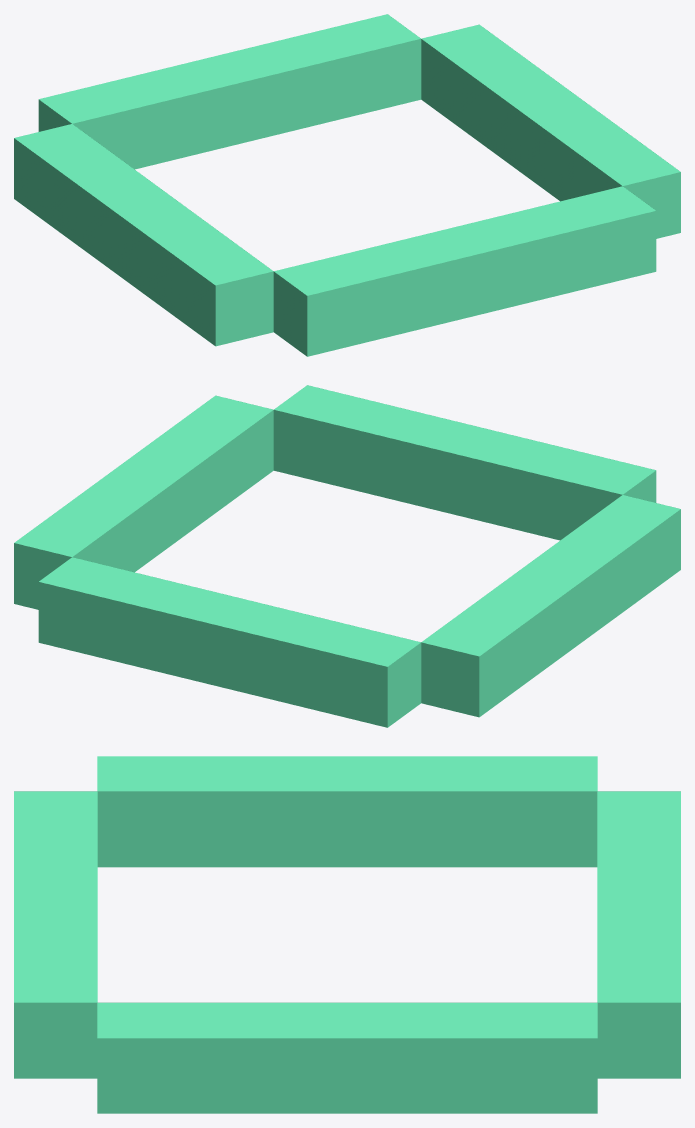
Rendered from Terra Lord Ring.obj.
3 renders of one model, top to bottom at view 1: azimuth 30°, elevation 25°; view 2: azimuth 150°, elevation 25°; view 3: azimuth 270°, elevation 25°, orthographic. The views are drawn at different scales.
Visible parts, largest first — view 1: Terra Lord Ring; view 2: Terra Lord Ring; view 3: Terra Lord Ring.
Part boxes in pixels (box(x1,y1,x2,y2)): Terra Lord Ring: box(14, 14, 680, 356); Terra Lord Ring: box(14, 385, 680, 727); Terra Lord Ring: box(14, 756, 680, 1113).
Bounding box in the file's own units: 8 × 1 × 8.
1 material, 1 textured.
